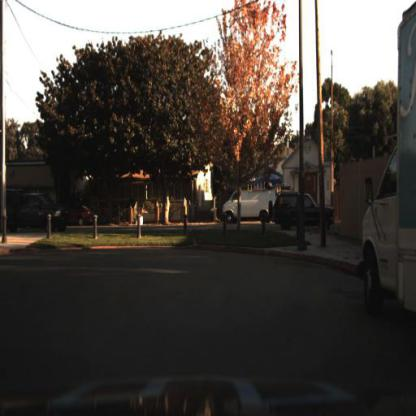car: (1, 191, 71, 240), (260, 186, 321, 238), (223, 183, 290, 230), (61, 201, 99, 232)
truck: (360, 5, 416, 330), (223, 176, 281, 226)
